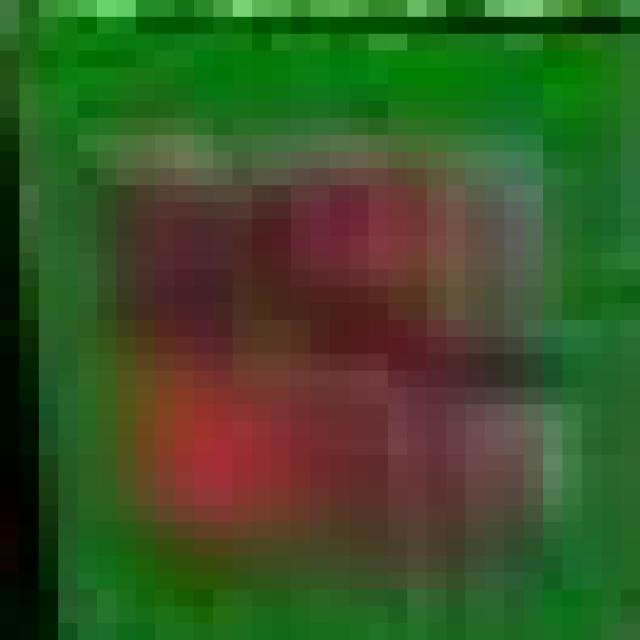nofire: (0, 17, 640, 640)
